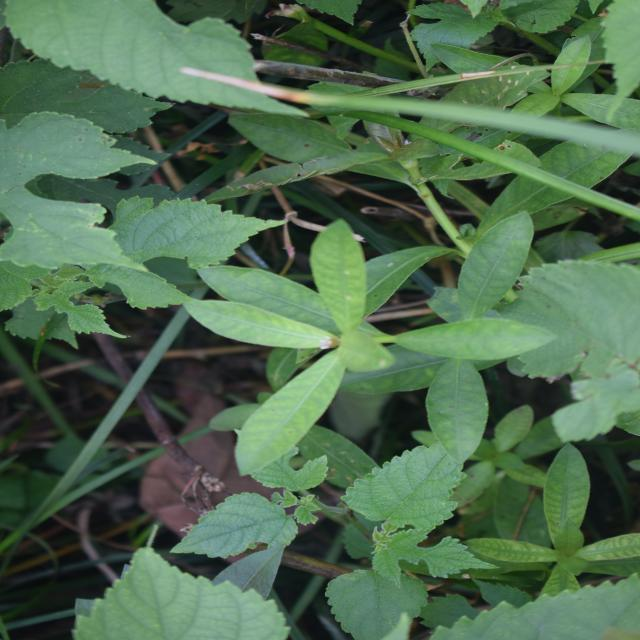Alligatorweed: (186, 187, 435, 520)
